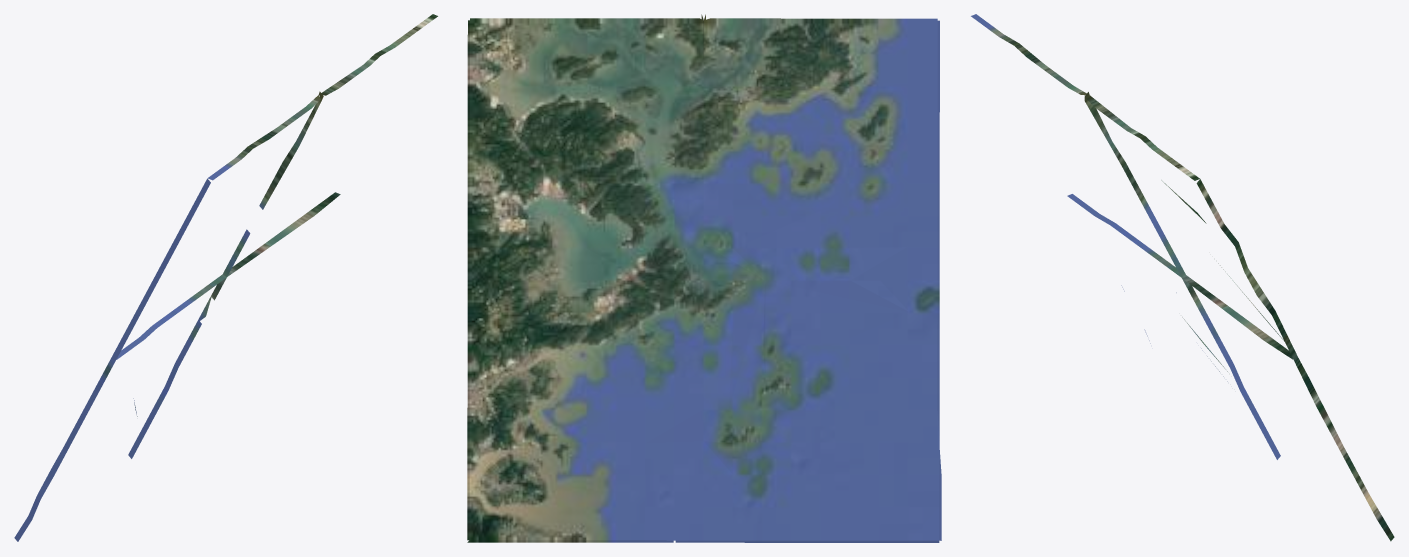
The picture shows the model from 3 angles, left to right: view 1: azimuth 30°, elevation 25°; view 2: azimuth 150°, elevation 25°; view 3: azimuth 270°, elevation 25°; orthographic projection. The views are drawn at different scales.
Size of the model in its own units: 79290 by 71806 by 66327.
1 material, 1 textured.
